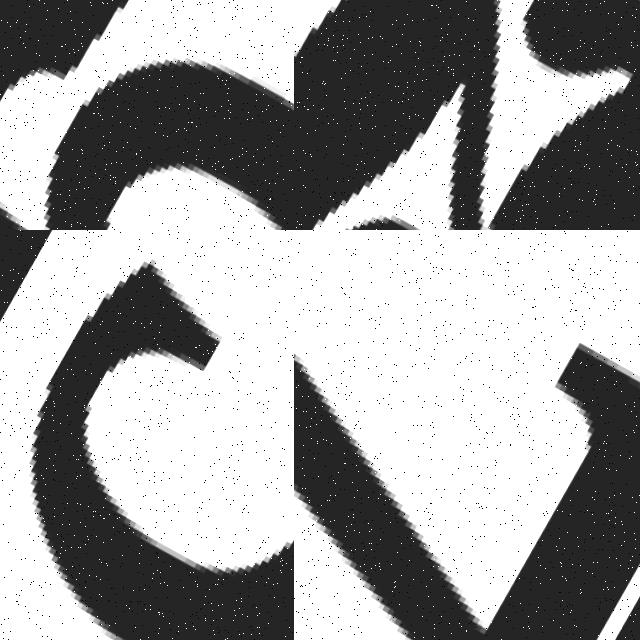3: (0, 230, 294, 640)
7: (294, 230, 640, 640)
G: (0, 0, 294, 230)
Z: (294, 0, 640, 230)
